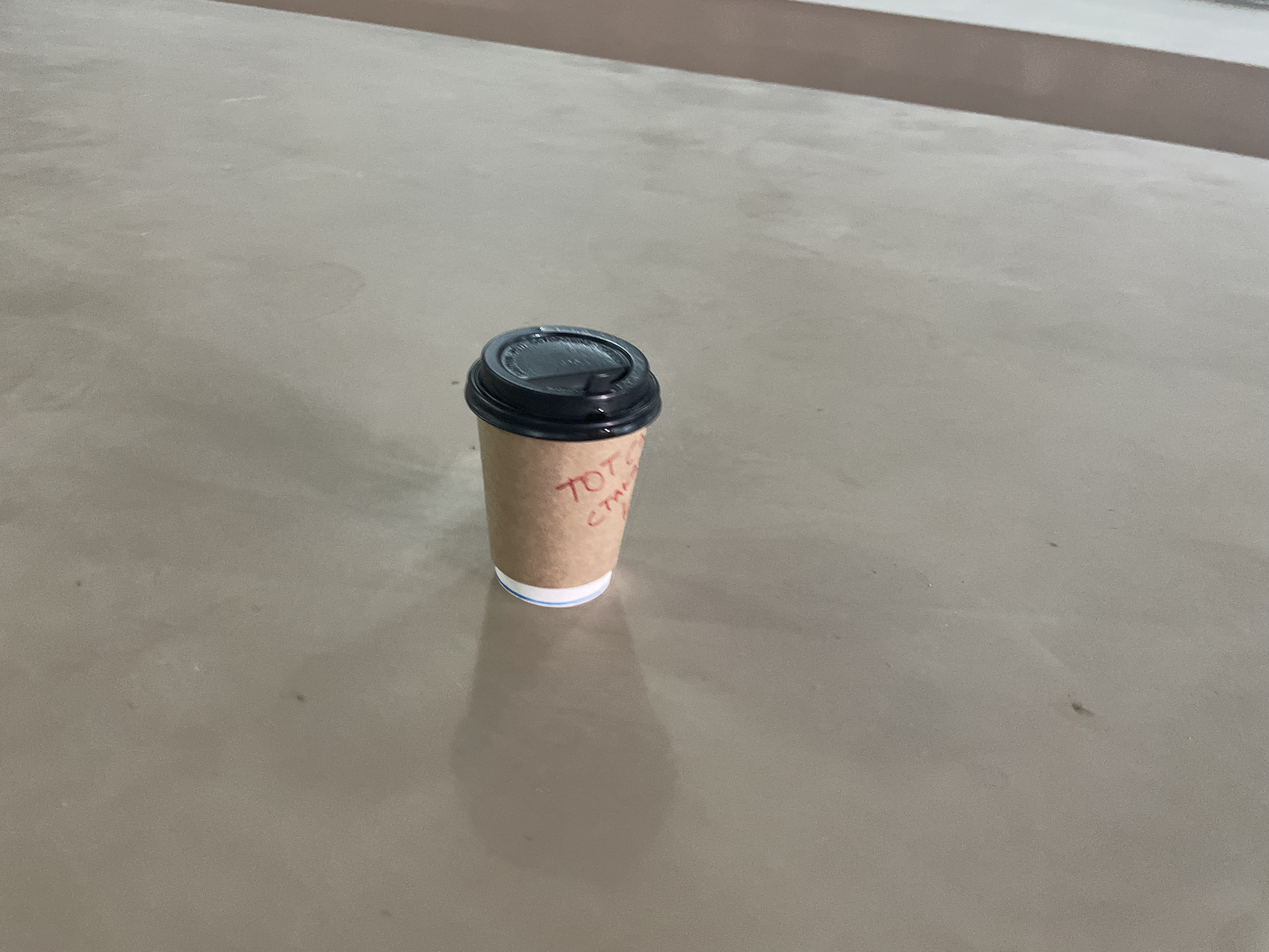cup: (463, 324, 663, 609)
